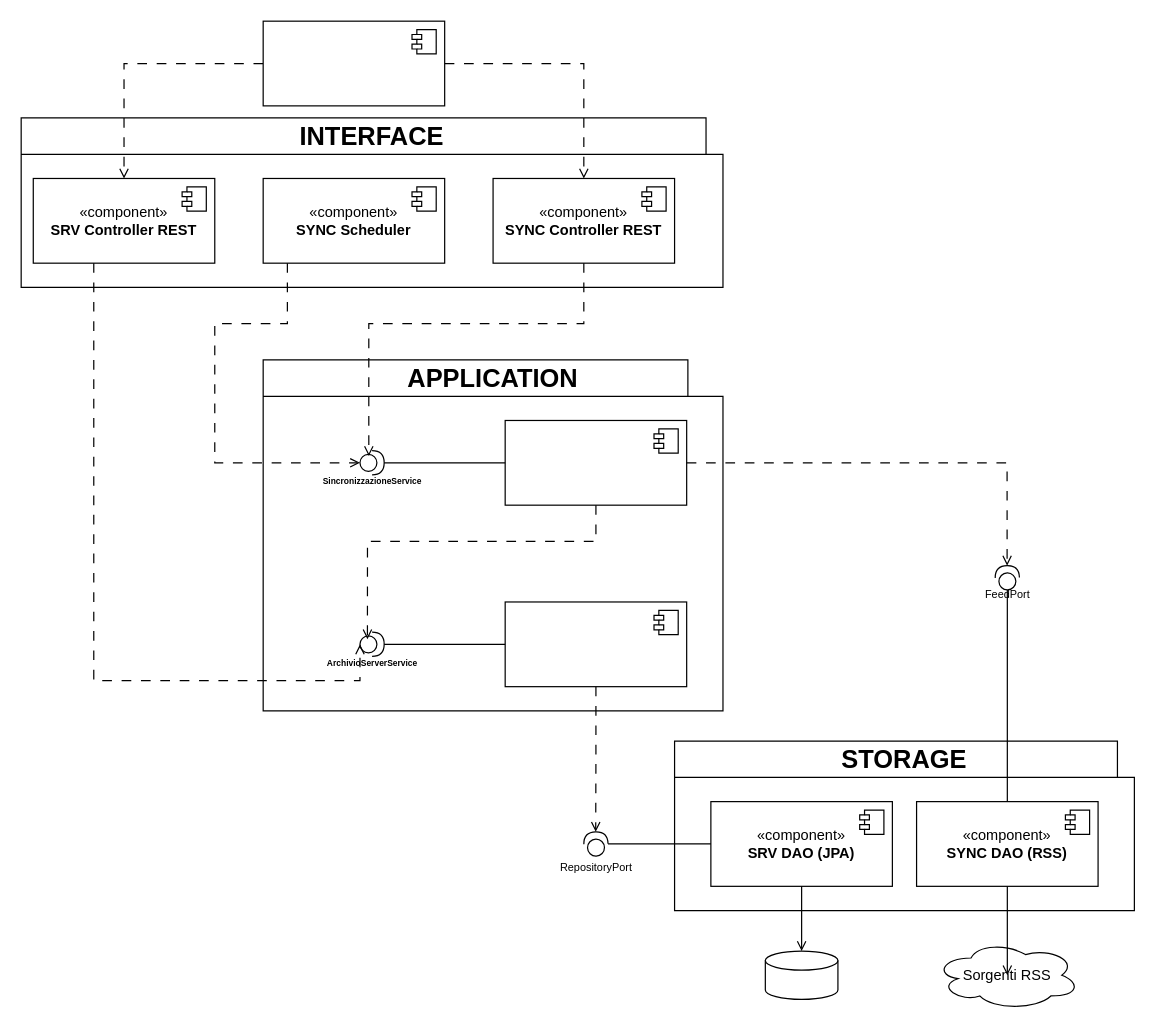
Image size: 1156x1031. Some labels were removed from this diagram. Here are the shapes that lost their labels. From the top down, the centre of each, then its label:
point 353,63: «component» Client (PER)
point 595,462: «component» SYNC Service
point 595,644: «component» SRV Service
point 801,974: MySQL
